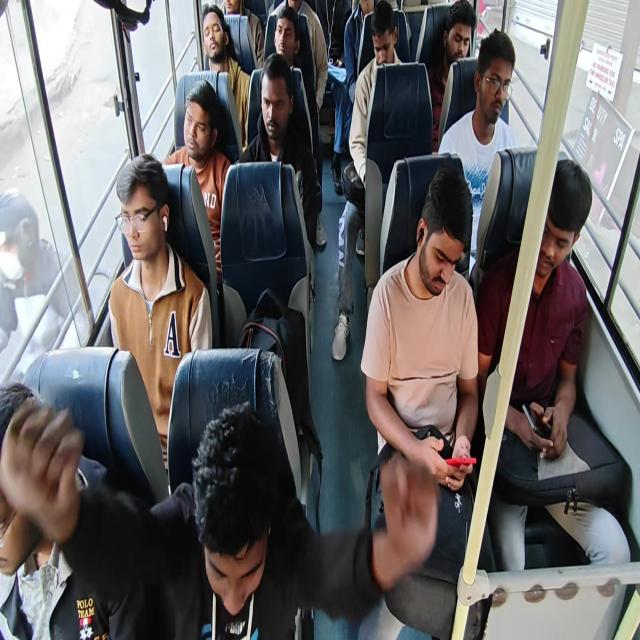person: (173, 417, 292, 640), (0, 404, 98, 640), (393, 186, 473, 419), (81, 165, 169, 334), (506, 170, 588, 337), (470, 37, 519, 153), (174, 79, 226, 177), (303, 0, 359, 79), (198, 0, 238, 93), (365, 5, 407, 82), (435, 9, 488, 65), (250, 63, 294, 130), (270, 11, 300, 61), (280, 0, 306, 44), (214, 0, 260, 24), (358, 0, 379, 36)
